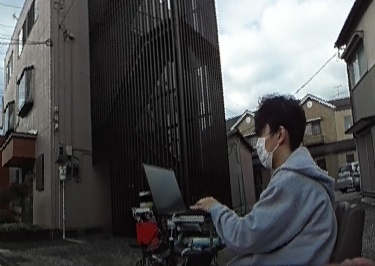person: (232, 91, 335, 266)
